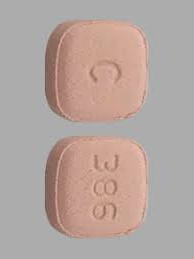Square: (47, 20, 149, 121), (47, 136, 147, 238)
